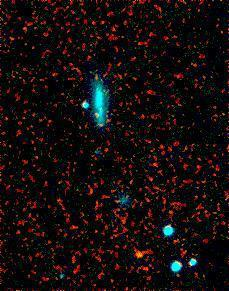star: (124, 240, 154, 270)
